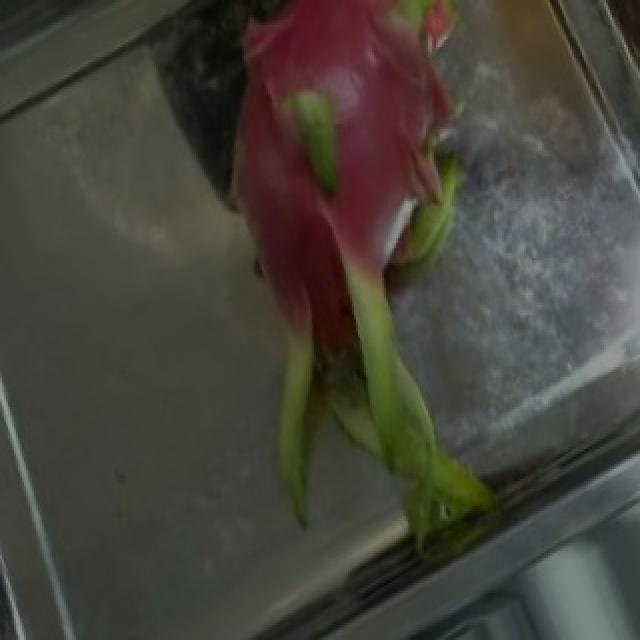fruit: (144, 0, 576, 407)
